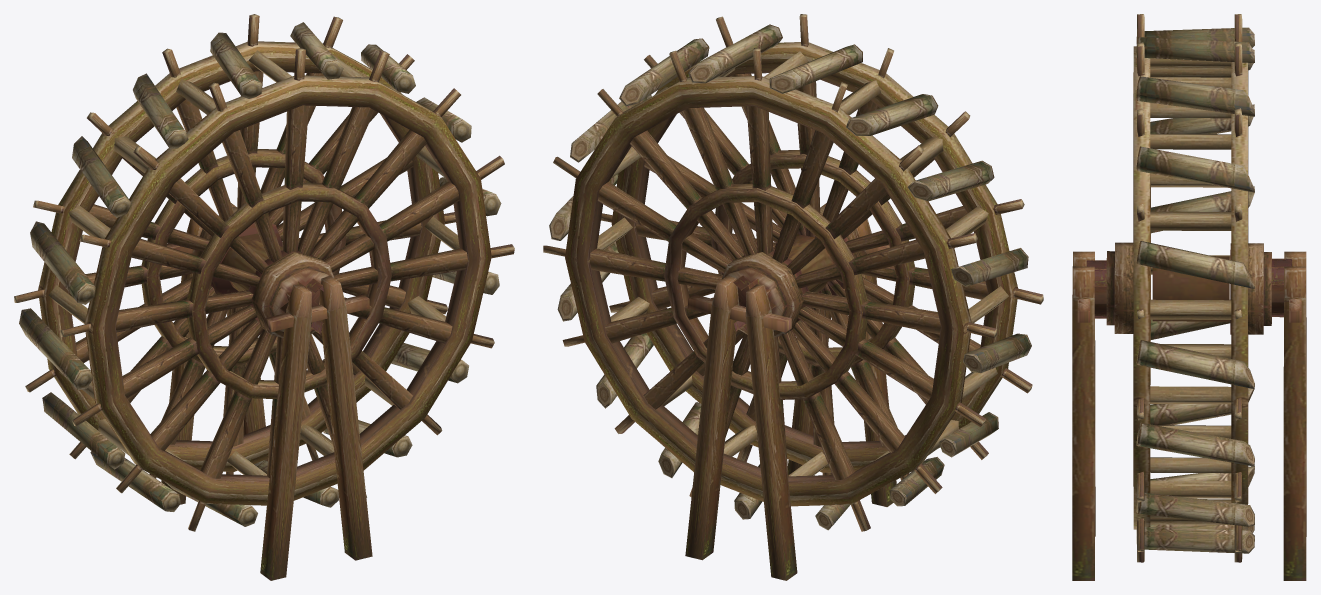
The model's file is Hangzhou_wj_001.FBX.
3 renders of one model, left to right at view 1: azimuth 30°, elevation 25°; view 2: azimuth 150°, elevation 25°; view 3: azimuth 270°, elevation 25°, orthographic. The views are drawn at different scales.
Visible parts, largest first — view 1: Object007; view 2: Object007; view 3: Object007.
Boxes of the visible parts, x1,y1,x2,y2 form: Object007: [14, 14, 514, 580]; Object007: [543, 14, 1043, 580]; Object007: [1072, 14, 1306, 580].
Size of the model in its own units: 571 by 596 by 245.
Materials: 1 (1 with a texture image).
